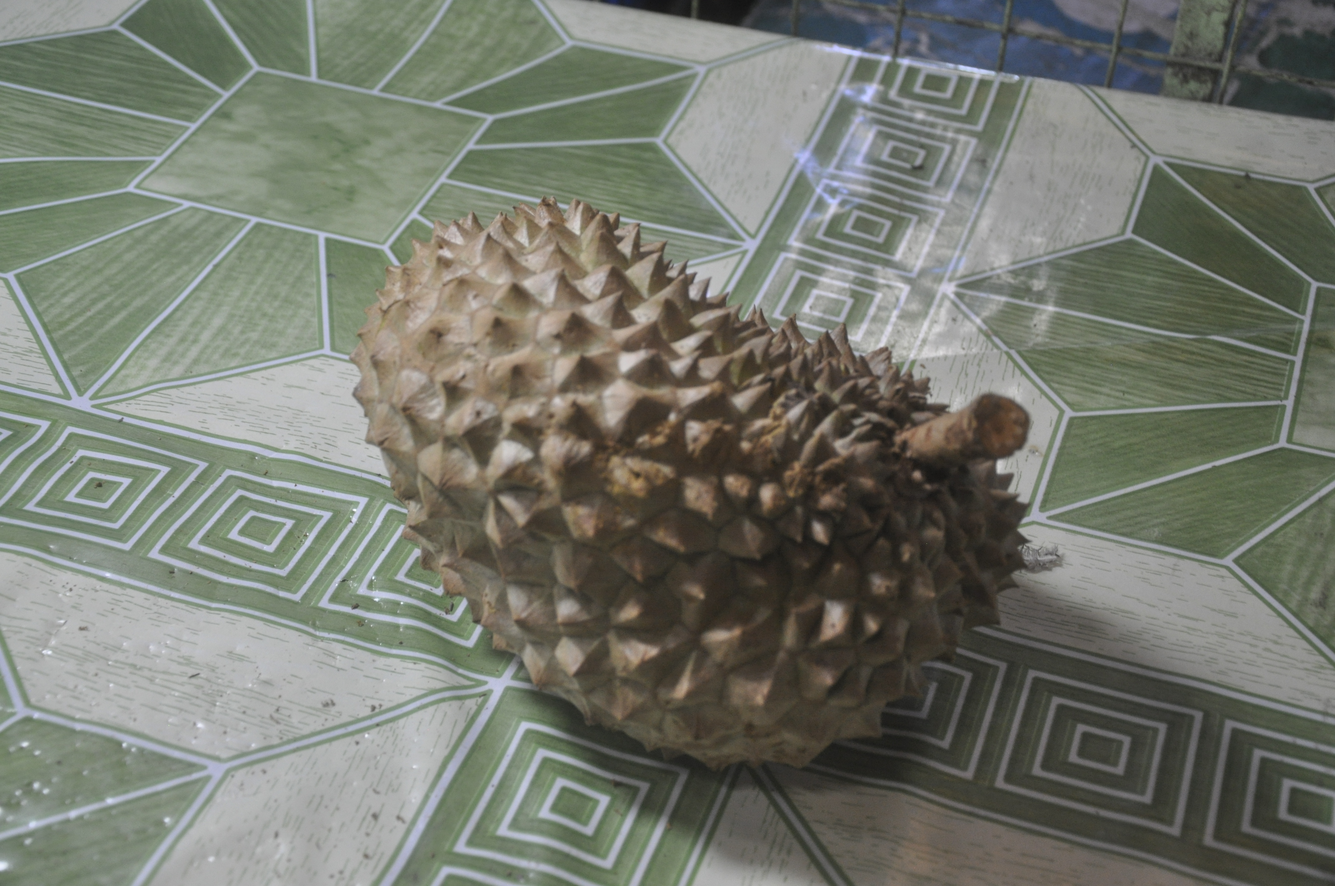mature: (316, 147, 1076, 800)
